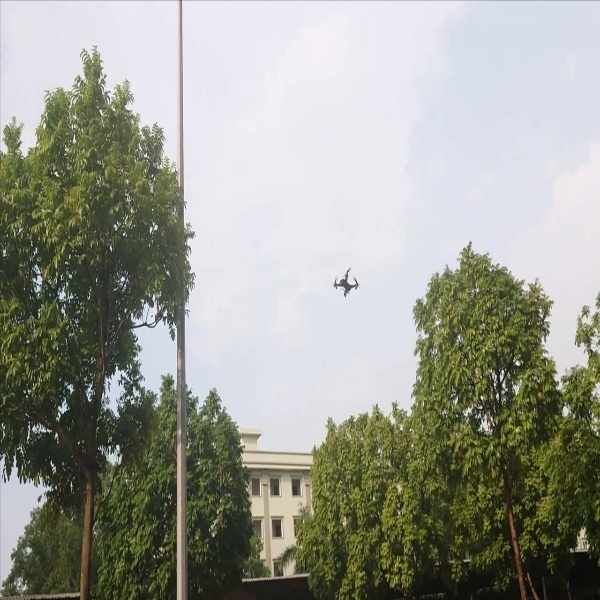drone: (326, 258, 363, 302)
